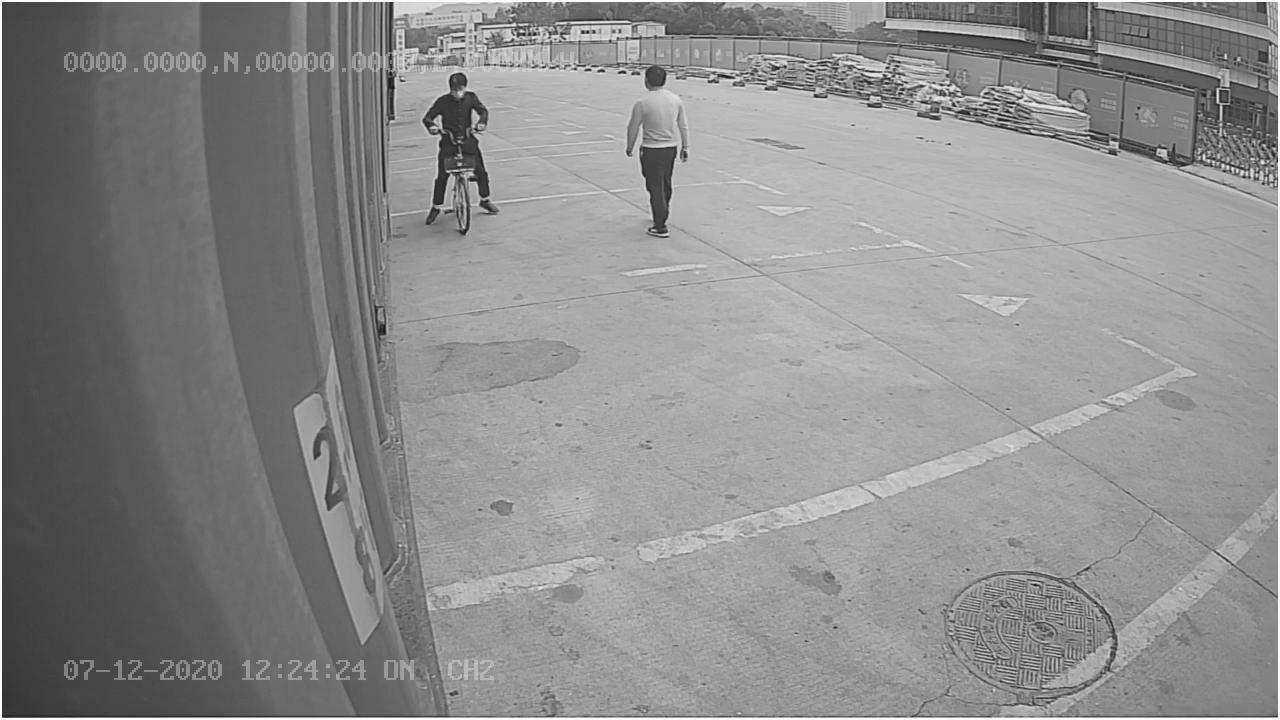person: (622, 62, 692, 239)
